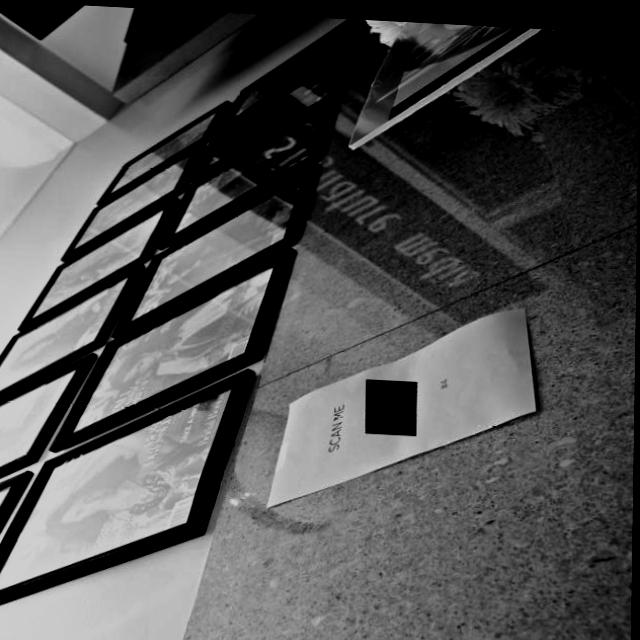qr_code: (367, 375, 418, 430)
